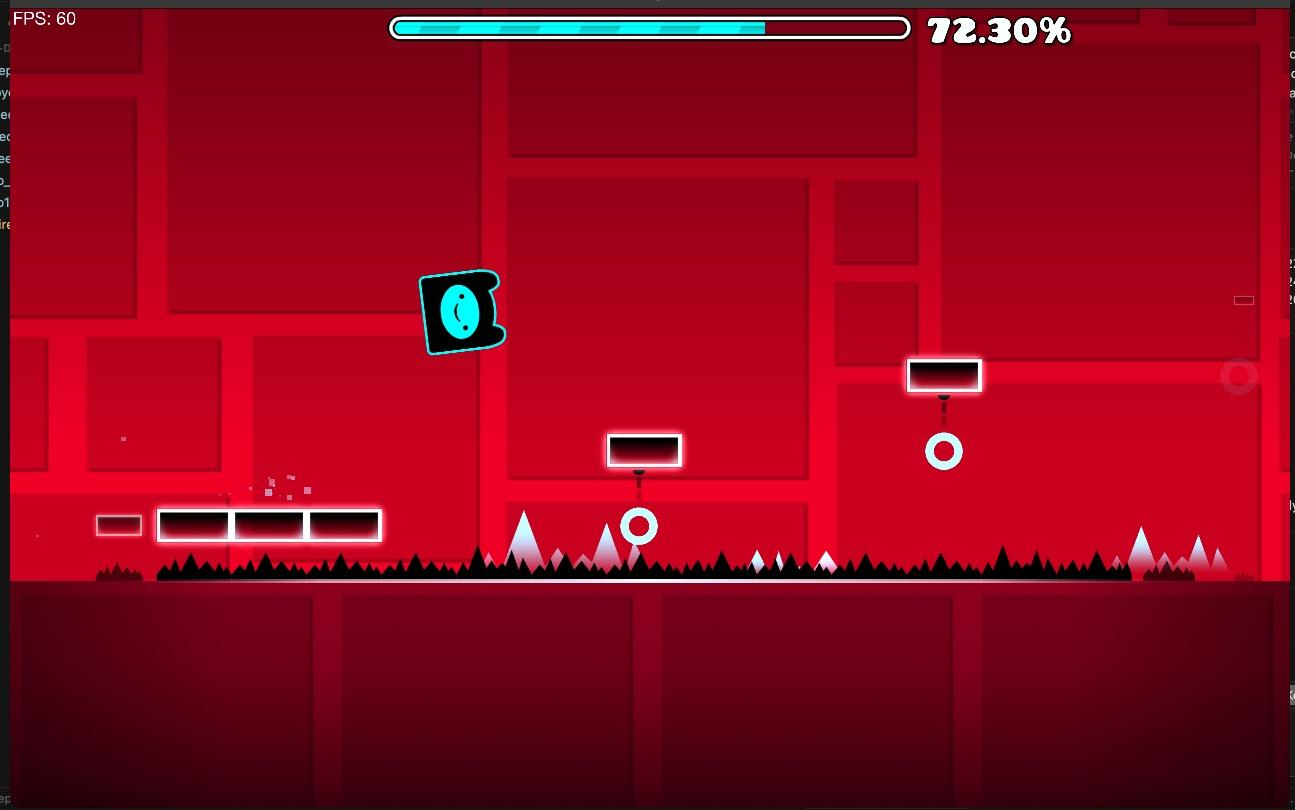platform: (156, 507, 383, 542), (605, 433, 682, 496), (904, 357, 982, 418), (931, 436, 961, 469)
player: (420, 269, 505, 353)
spike: (158, 515, 1247, 580)
